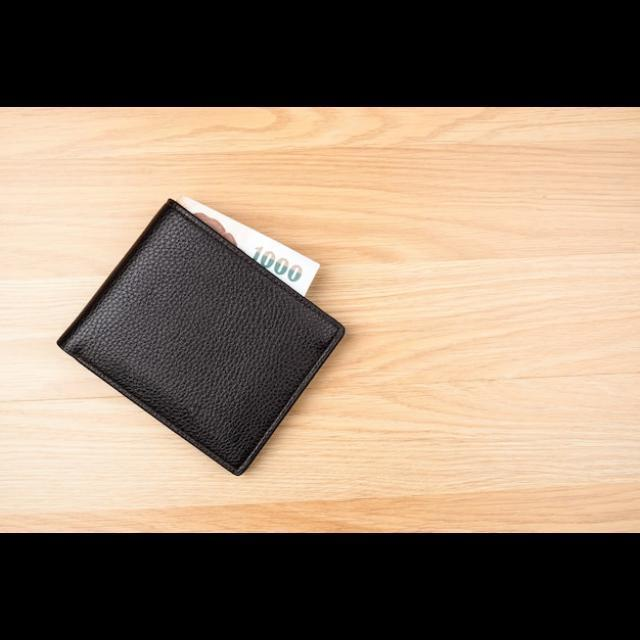wallet: (52, 203, 356, 515)
